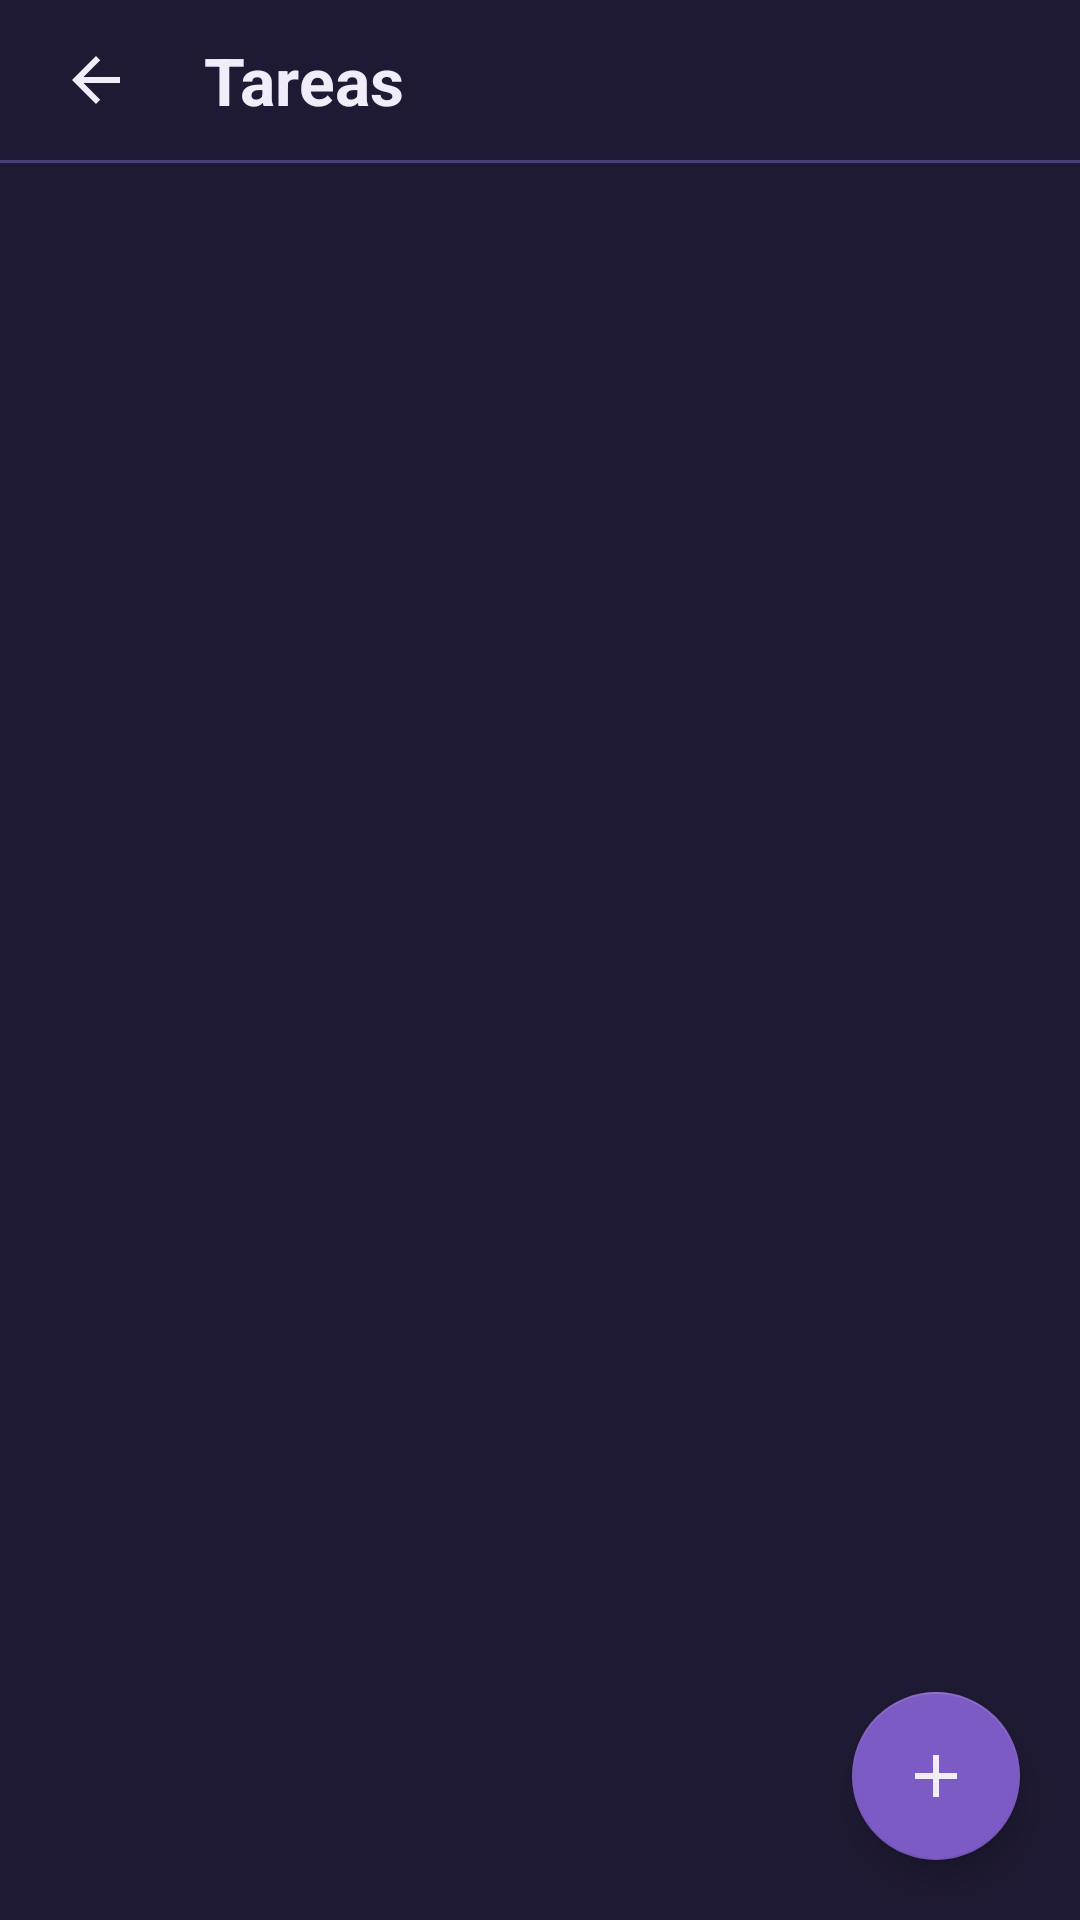

Named icons in this screenshot (1080x1920) and their bounding boxes, bbox=[x1, y1, x2, y2]:
Nueva tarea: bbox=[852, 1692, 1020, 1860]
Volver: bbox=[72, 56, 120, 104]
